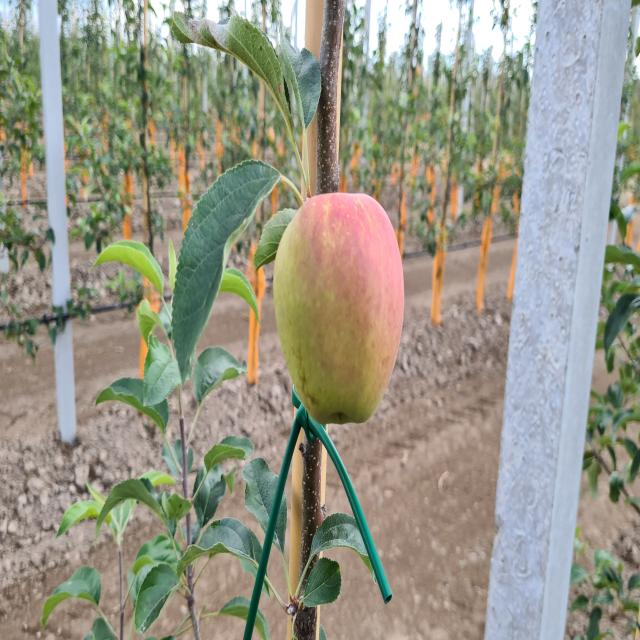Apple: (274, 193, 404, 424)
